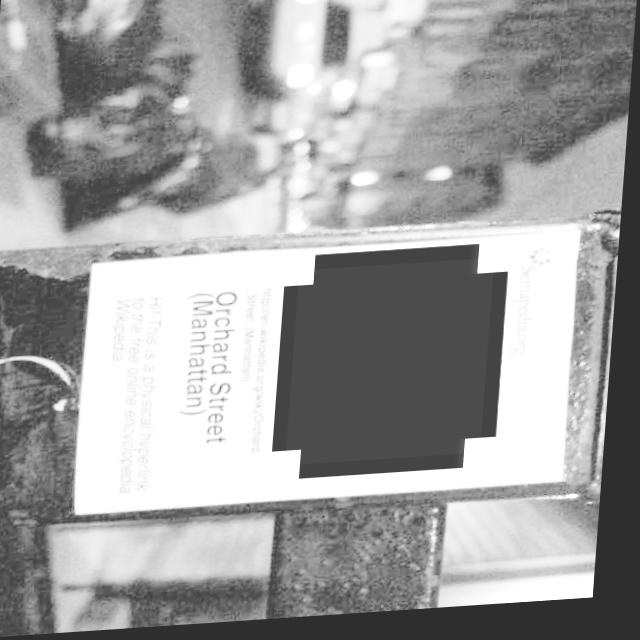qr_code: (292, 265, 498, 470)
